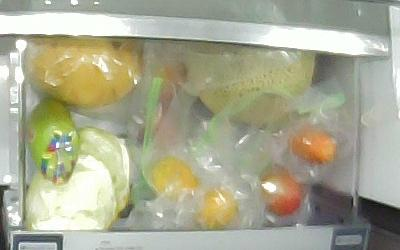cabbage: (23, 126, 131, 230)
carrot_vinyl: (154, 64, 184, 154)
melon_vinyl: (184, 45, 315, 125)
pear_vinyl: (26, 37, 143, 108)
tangerine_vinyl: (147, 158, 200, 199), (194, 184, 238, 230)
tomato_vinyl: (258, 164, 301, 216), (288, 127, 336, 166)
zucchini: (29, 98, 80, 186)
